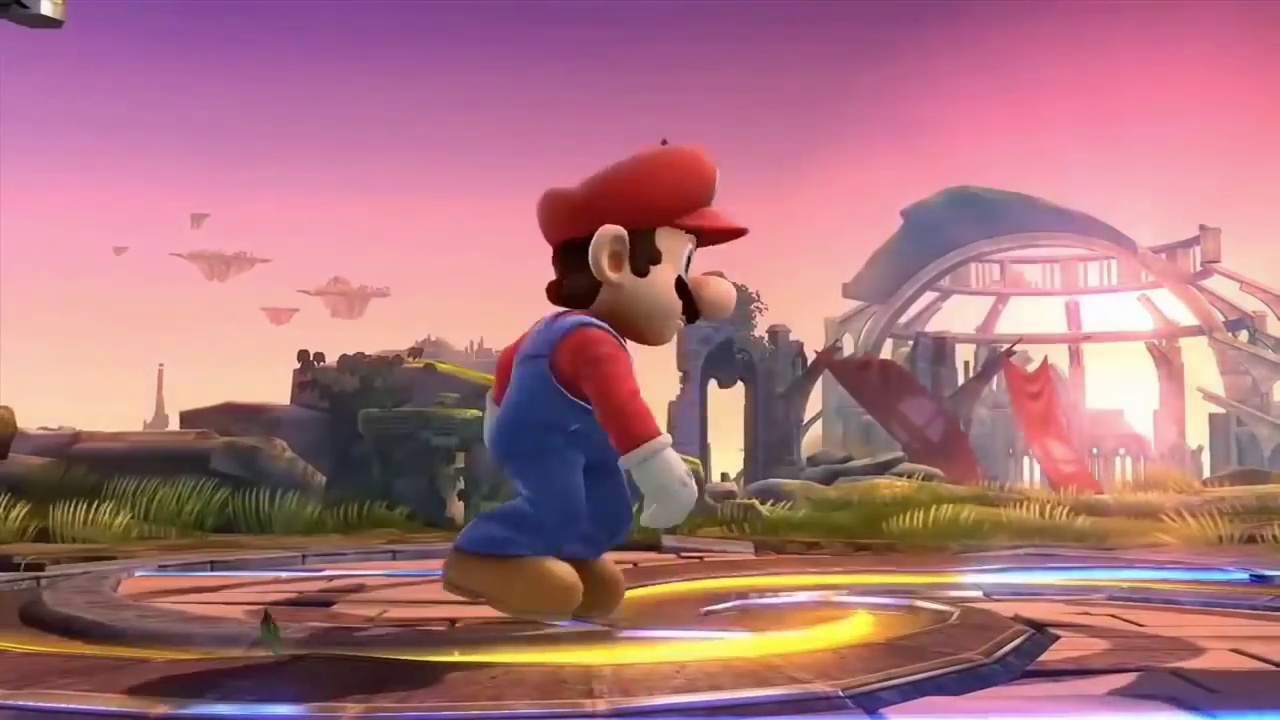Mario: (444, 145, 749, 622)
